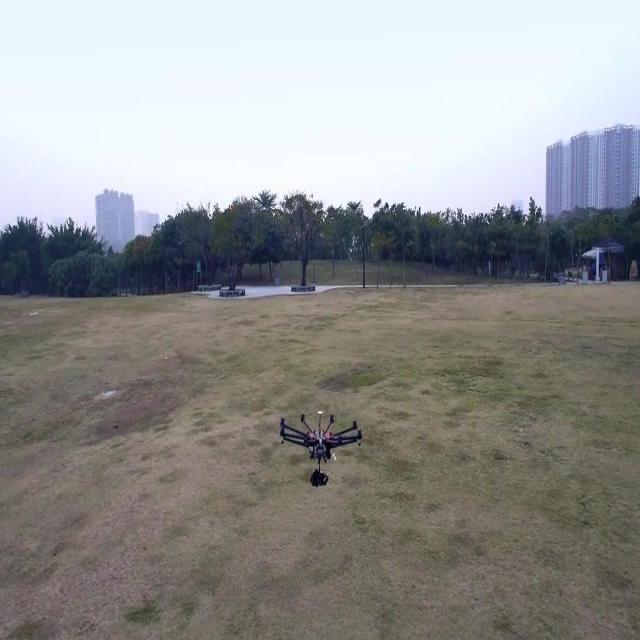UAV: (280, 410, 362, 488)
